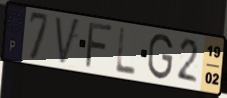2: (174, 37, 202, 88)
7: (27, 9, 50, 63)
F: (83, 21, 116, 70)
G: (147, 32, 175, 81)
L: (113, 26, 138, 78)
V: (53, 14, 82, 68)
